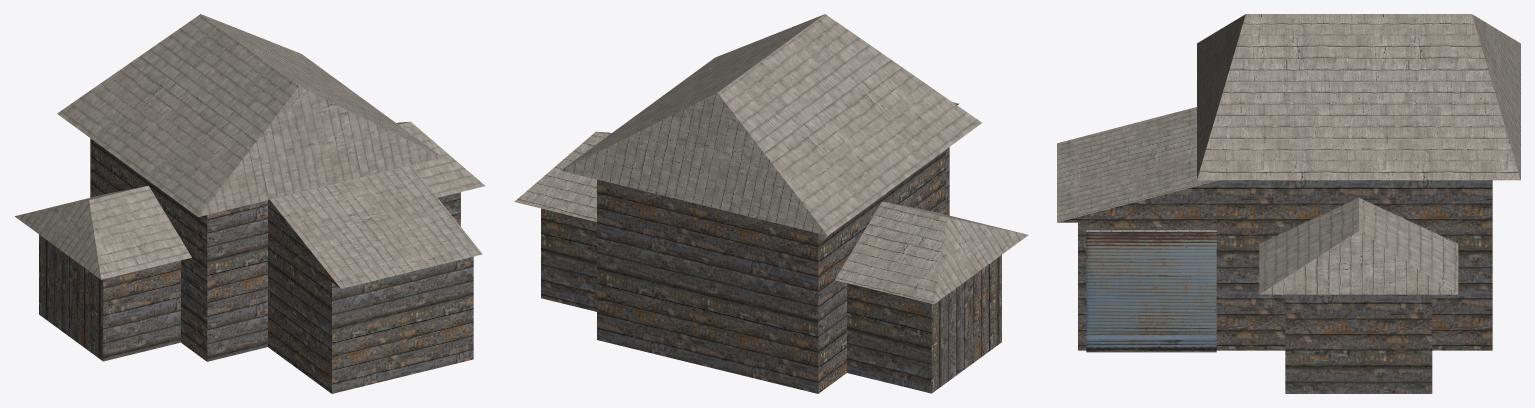
Rendered from House.fbx.
3 views of the same model, side by side, from view 1: azimuth 30°, elevation 25°; view 2: azimuth 150°, elevation 25°; view 3: azimuth 270°, elevation 25° (orthographic). The views are drawn at different scales.
Parts seen in each view (by area): view 1: Cube; view 2: Cube; view 3: Cube.
Boxes of the visible parts, x1,y1,x2,y2 form: Cube: [15, 14, 484, 393]; Cube: [514, 14, 1028, 393]; Cube: [1057, 14, 1520, 393].
Bounding box in the file's own units: 1520 × 923 × 1385.
